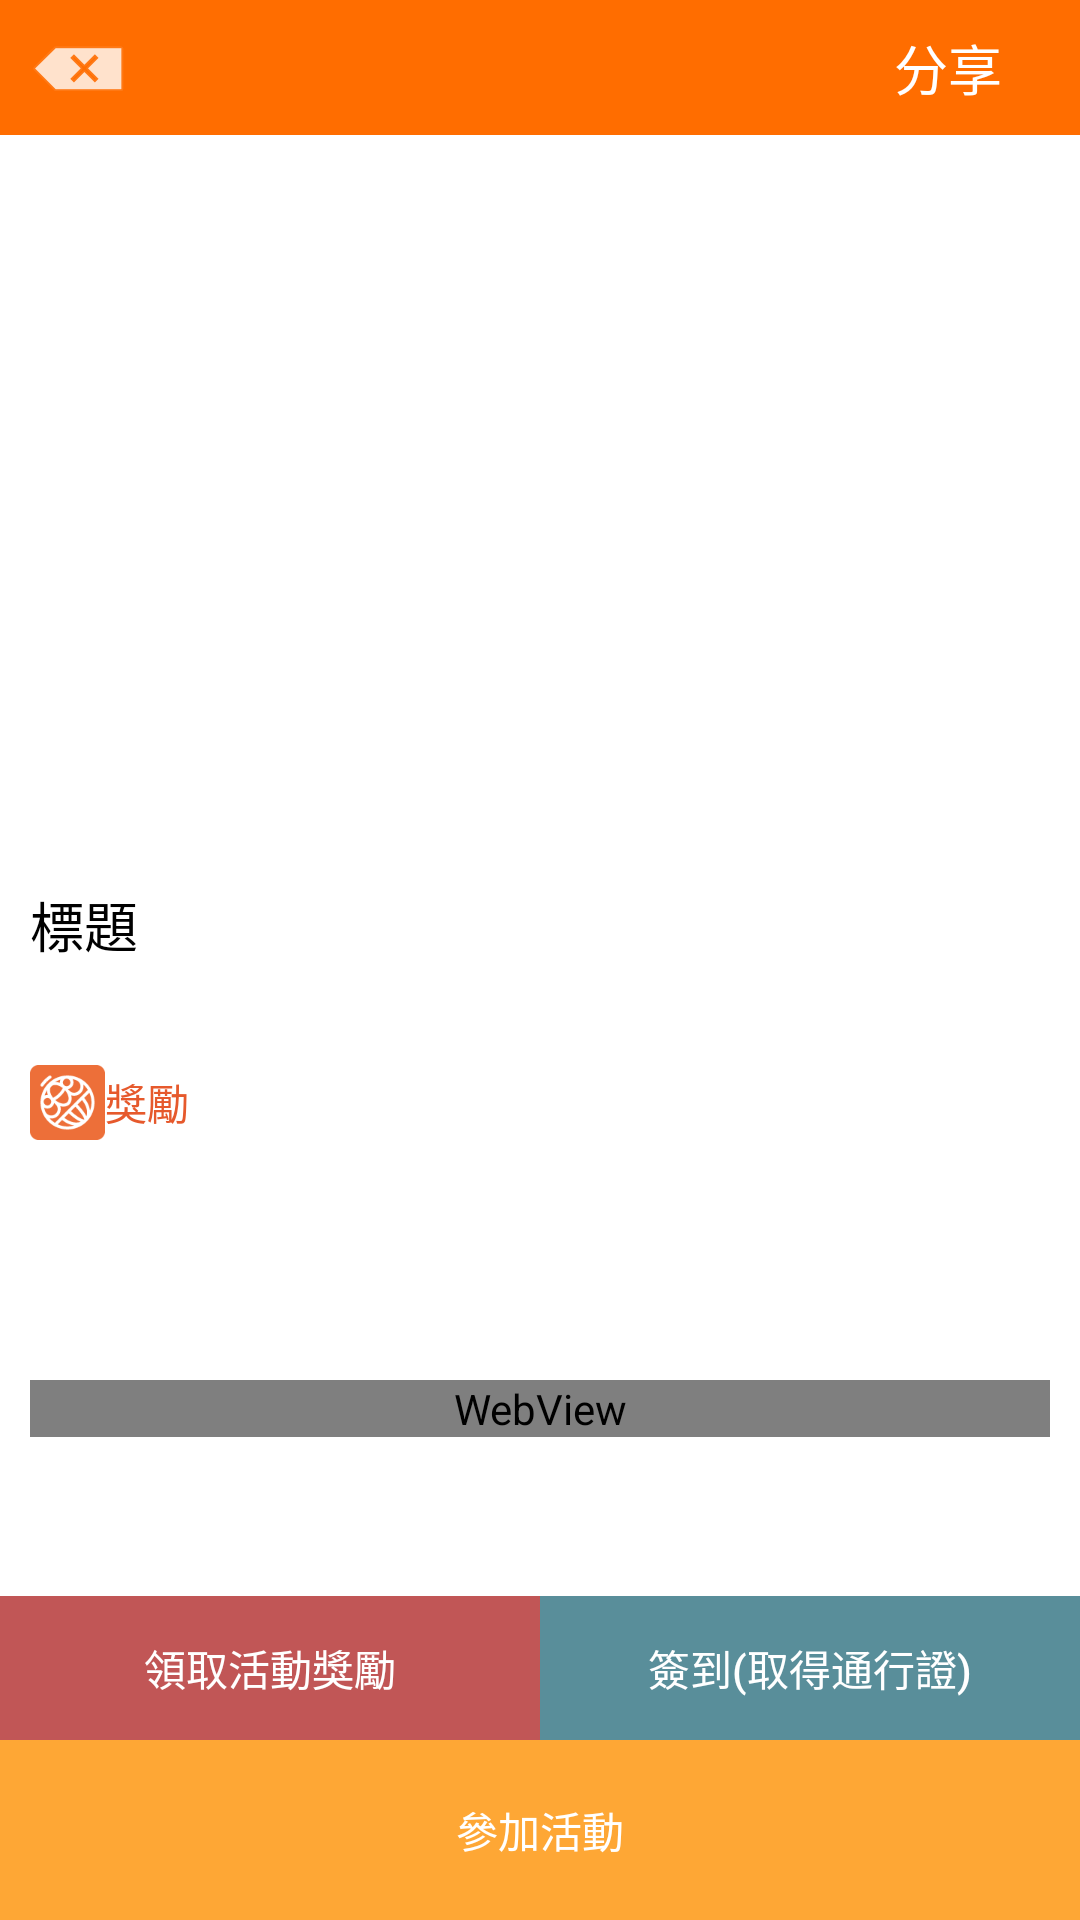

Icons on this 1080x1920 Android screen, each with its box as (x1, y1, x2, y2):
delete: (35, 48, 122, 90)
